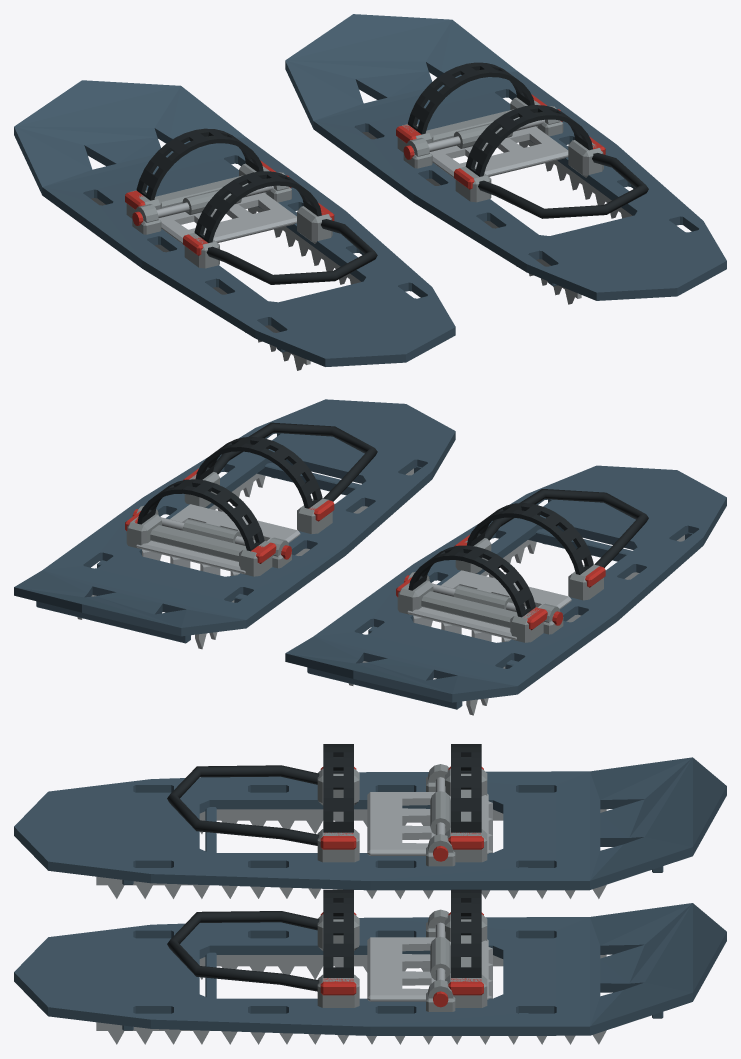
The model's file is A-NEW-20261026-SNOWSHOE-PAIR-001_LOD2_R5.glb.
The picture shows the model from 3 angles, top to bottom: view 1: azimuth 30°, elevation 25°; view 2: azimuth 150°, elevation 25°; view 3: azimuth 270°, elevation 25°; orthographic projection. The views are drawn at different scales.
Visible parts, largest first — view 1: right deck, left deck, right generic toe crampon plate, left generic toe crampon plate, left perforated instep strap -0.025, right perforated instep strap -0.025, left perforated instep strap 0.075, right perforated instep strap 0.075, left generic heel retention loop, right generic heel retention loop, left underside toothed rail 0.06, right underside toothed rail 0.06 (+6 smaller); view 2: left deck, right deck, right generic toe crampon plate, left generic toe crampon plate, left perforated instep strap 0.075, right perforated instep strap 0.075, right perforated instep strap -0.025, left perforated instep strap -0.025, right generic heel retention loop, left generic heel retention loop, left toe bridge pad, right toe bridge pad (+12 smaller); view 3: left deck, right deck, right generic toe crampon plate, left generic toe crampon plate, left generic heel retention loop, right generic heel retention loop, right perforated instep strap -0.025, left perforated instep strap -0.025, right perforated instep strap 0.075, left perforated instep strap 0.075, left underside toothed rail -0.06, right underside toothed rail -0.06 (+14 smaller).
Boxes of the visible parts, box(x1,y1,x2,y2) form: right deck: box(285, 14, 726, 300); left deck: box(14, 80, 455, 366); right generic toe crampon plate: box(430, 126, 568, 177); left generic toe crampon plate: box(158, 192, 296, 243); left perforated instep strap -0.025: box(194, 171, 321, 242); right perforated instep strap -0.025: box(465, 105, 592, 176); left perforated instep strap 0.075: box(136, 128, 263, 200); right perforated instep strap 0.075: box(408, 62, 534, 134); left generic heel retention loop: box(206, 219, 377, 284); right generic heel retention loop: box(478, 153, 648, 218); left underside toothed rail 0.06: box(248, 206, 360, 284); right underside toothed rail 0.06: box(519, 140, 632, 218); left deck: box(285, 465, 726, 702); right deck: box(14, 399, 455, 636); right generic toe crampon plate: box(136, 504, 300, 573); left generic toe crampon plate: box(407, 570, 571, 639); left perforated instep strap 0.075: box(408, 545, 535, 617); right perforated instep strap 0.075: box(137, 479, 264, 551); right perforated instep strap -0.025: box(195, 437, 322, 508); left perforated instep strap -0.025: box(467, 503, 593, 574); right generic heel retention loop: box(213, 422, 377, 501); left generic heel retention loop: box(484, 489, 648, 567); left toe bridge pad: box(421, 591, 516, 627); right toe bridge pad: box(150, 525, 245, 561); left deck: box(14, 757, 726, 890); right deck: box(14, 903, 726, 1035); right generic toe crampon plate: box(367, 937, 488, 1001); left generic toe crampon plate: box(367, 792, 488, 855); left generic heel retention loop: box(167, 765, 319, 845); right generic heel retention loop: box(167, 911, 319, 991); right perforated instep strap -0.025: box(323, 889, 353, 977); left perforated instep strap -0.025: box(323, 744, 353, 832); right perforated instep strap 0.075: box(451, 889, 481, 977); left perforated instep strap 0.075: box(451, 744, 481, 832); left underside toothed rail -0.06: box(199, 809, 606, 833); right underside toothed rail -0.06: box(199, 954, 606, 979).
Bounding box in the file's own units: 0.4732 × 0.099 × 0.5588.
